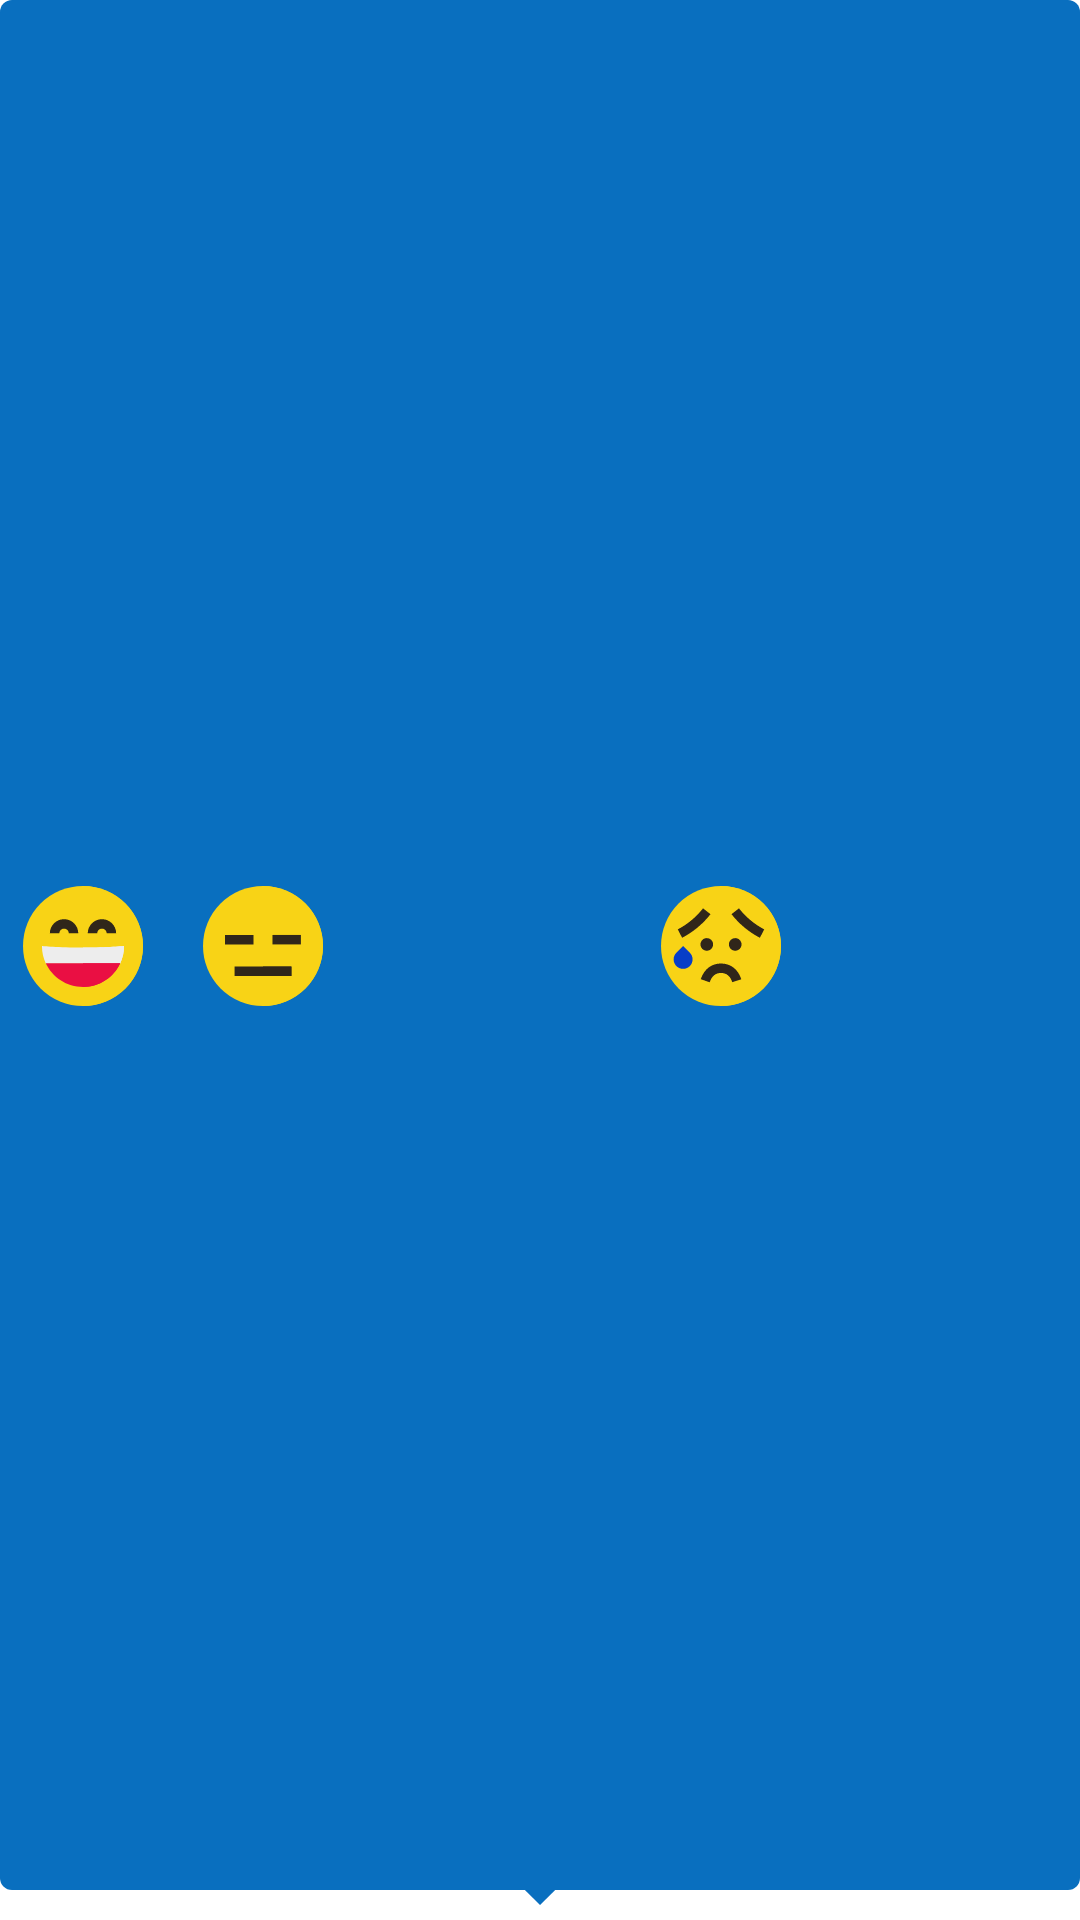

Screen size 1080w x 1920h. Icon name, then its center in pixels as (x,y):
calm: (263,946)
happy: (83,946)
worried: (721,946)
